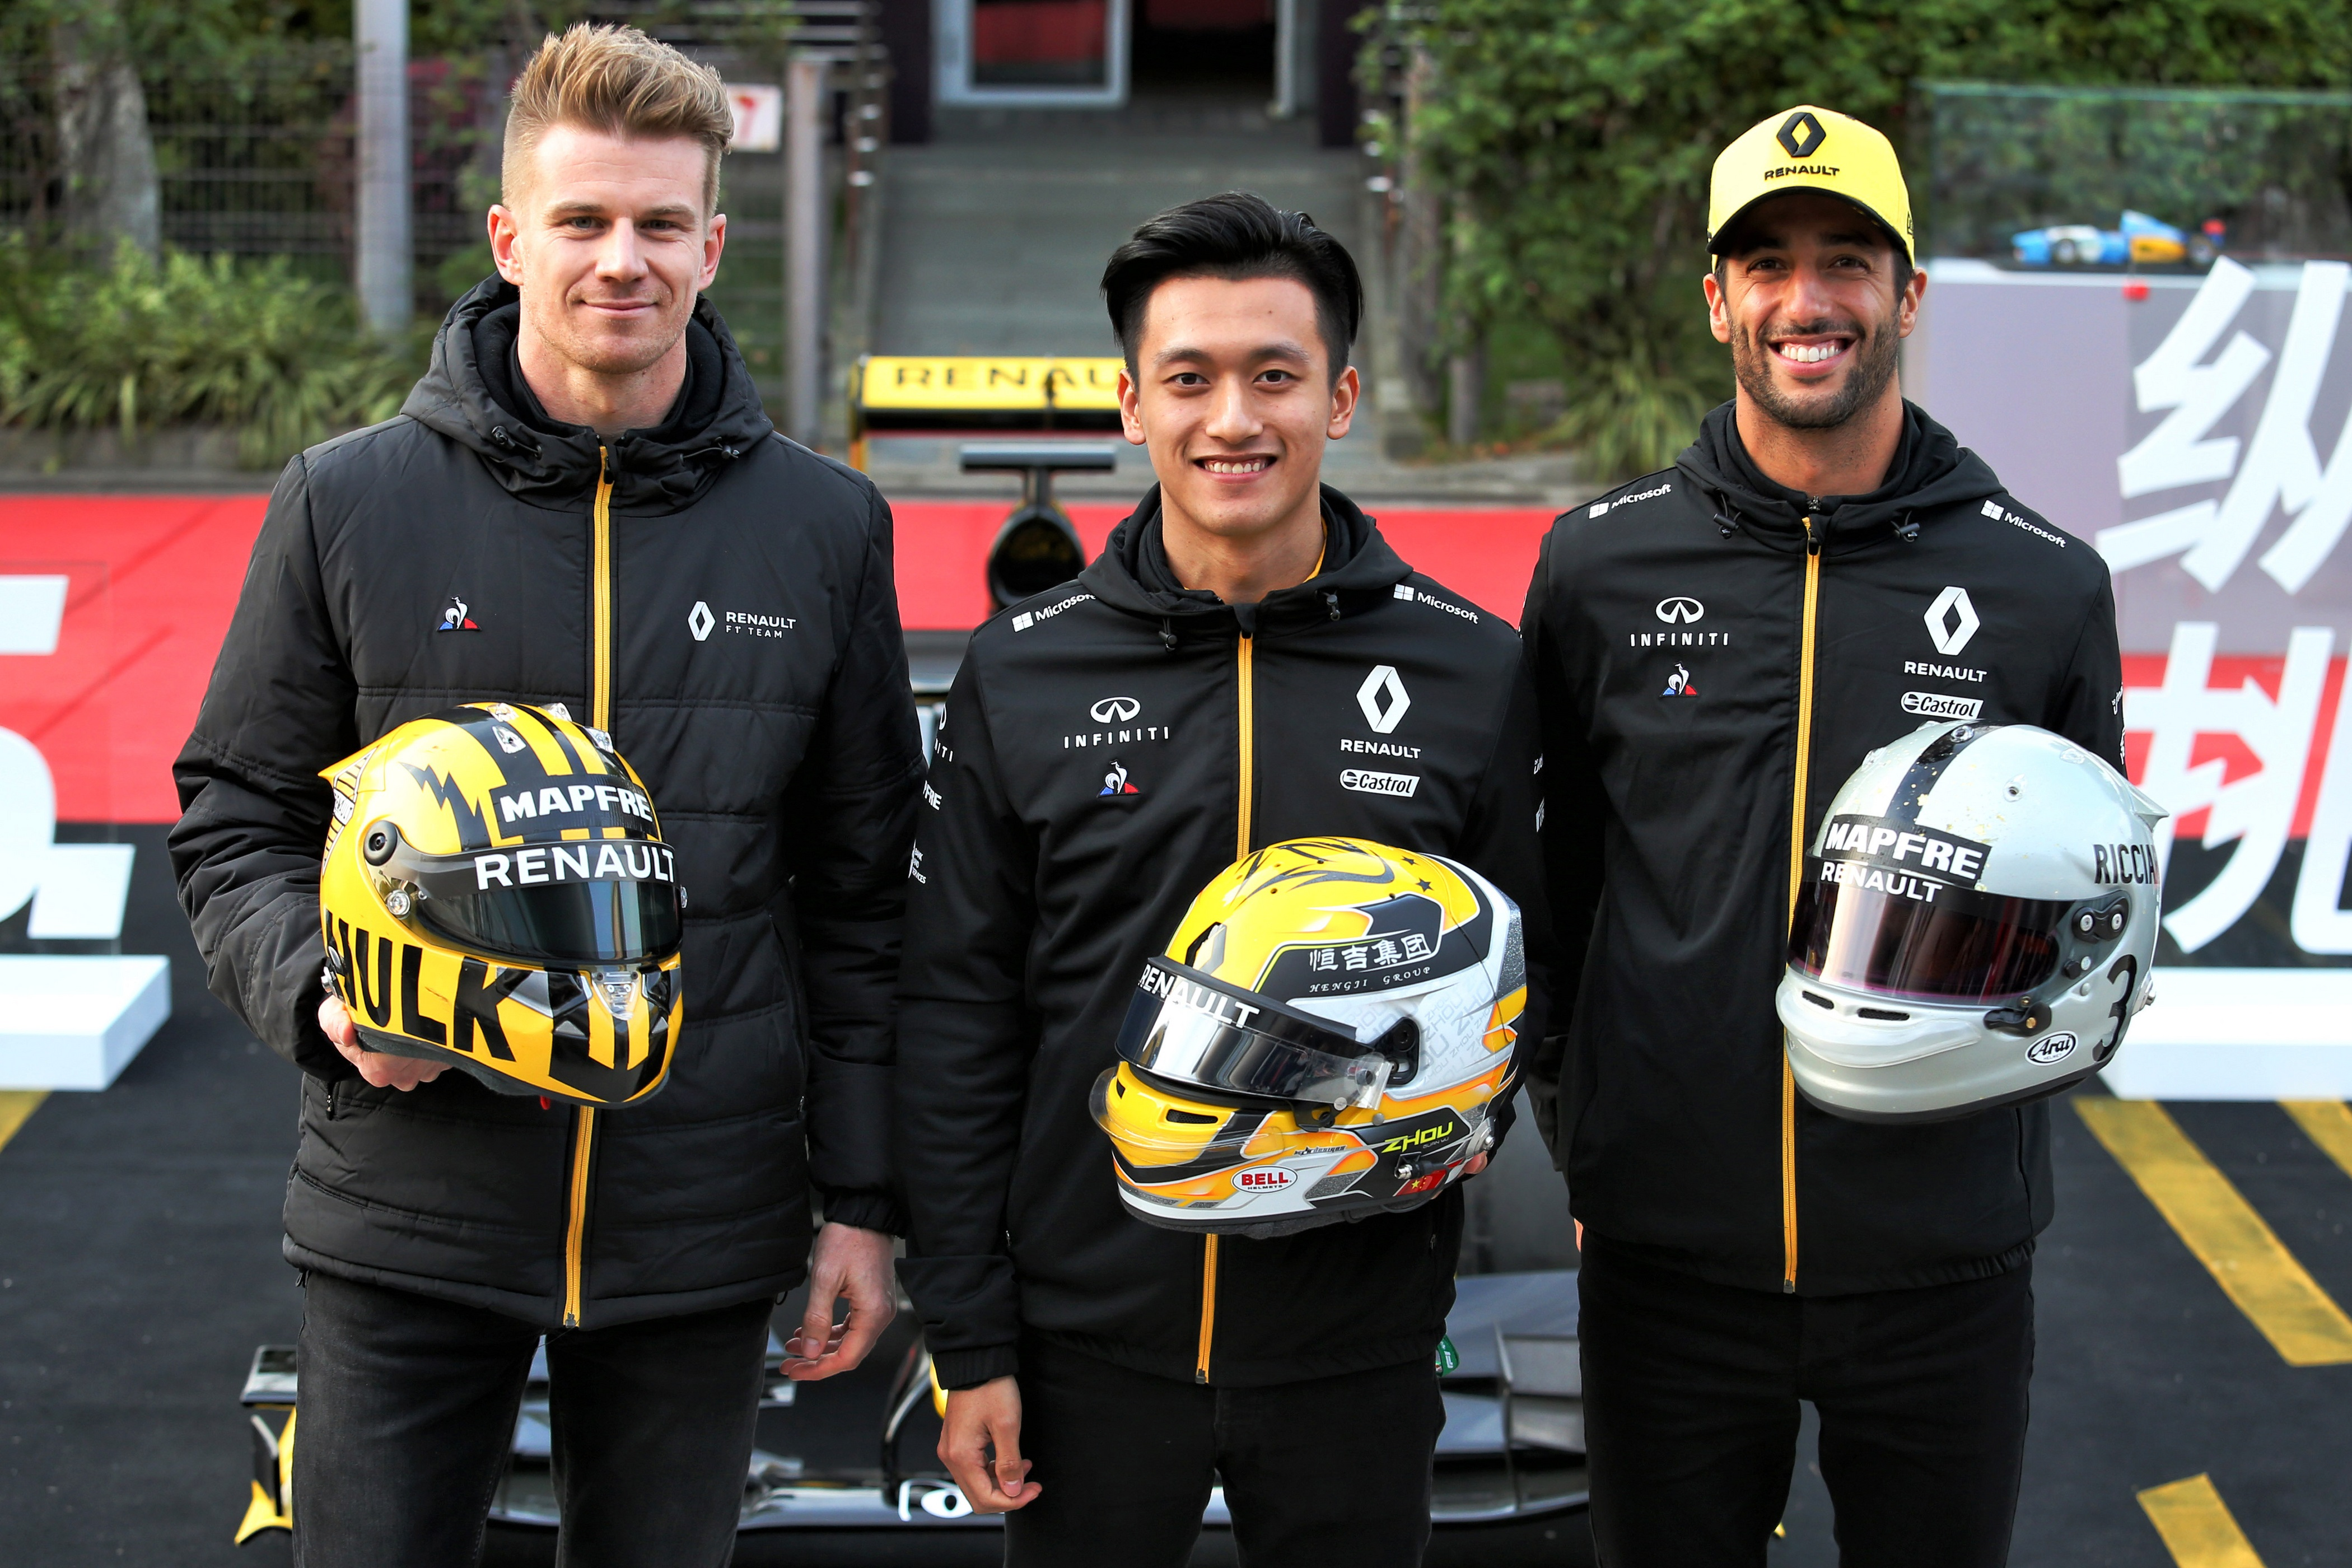with_helmet: (1088, 842, 1533, 1220), (310, 695, 695, 1113), (1778, 711, 2163, 1111)
